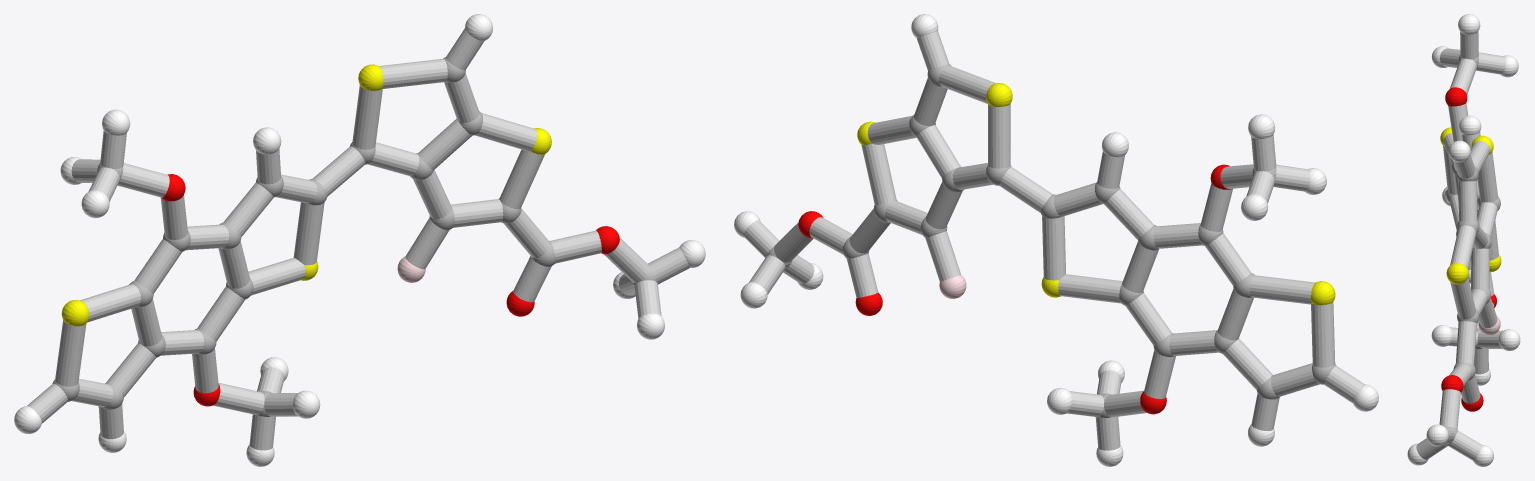
Rendered from color.glb.
The picture shows the model from 3 angles, left to right: view 1: azimuth 30°, elevation 25°; view 2: azimuth 150°, elevation 25°; view 3: azimuth 270°, elevation 25°; orthographic projection. The views are drawn at different scales.
Parts seen in each view (by area): view 1: grp15205, grp8689, grp1, grp7241, grp13395; view 2: grp15205, grp8689, grp1, grp7241, grp13395; view 3: grp15205, grp8689, grp1, grp13395, grp7241, grp14843.
Boxes of the visible parts, box(x1,y1,x2,y2) form: grp15205: box(27, 28, 689, 450); grp8689: box(14, 14, 705, 466); grp1: box(52, 57, 656, 416); grp7241: box(61, 64, 551, 326); grp13395: box(161, 174, 619, 406); grp15205: box(743, 31, 1364, 450); grp8689: box(734, 14, 1378, 466); grp1: box(766, 64, 1336, 417); grp7241: box(857, 83, 1335, 305); grp13395: box(798, 164, 1231, 414); grp15205: box(1416, 31, 1505, 460); grp8689: box(1407, 14, 1520, 466); grp1: box(1444, 55, 1500, 445); grp13395: box(1441, 87, 1496, 411); grp7241: box(1440, 127, 1501, 284); grp14843: box(1478, 316, 1500, 334).
Size of the model in its own units: 16.58 by 9.58 by 3.05.
